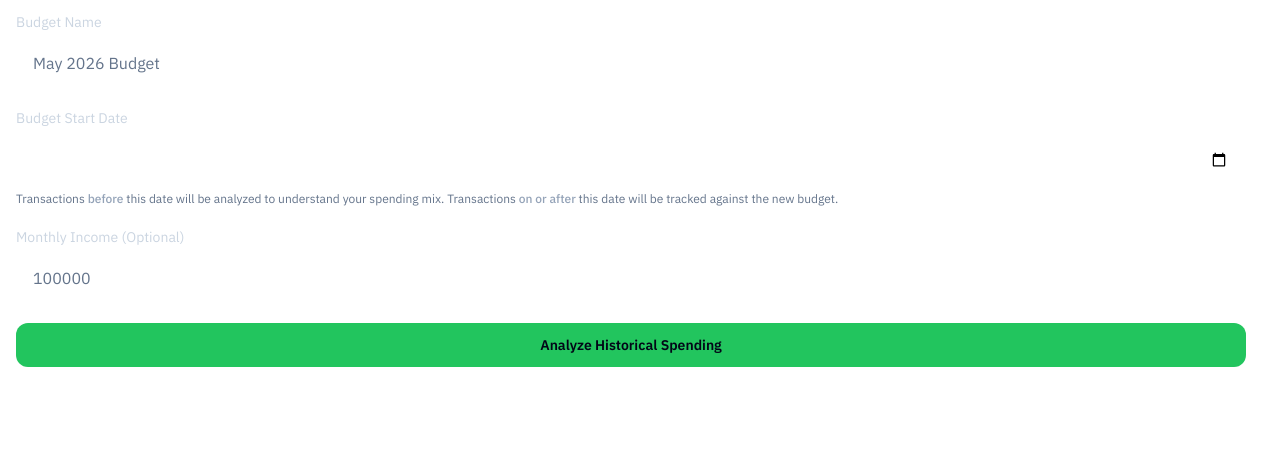
Test: BudgetCreateForm › validates required fields
The image size is (1263, 450).
Type "ab" into the field labelled "Budget Name" at (631, 64), box 16,40 -> 1246,88
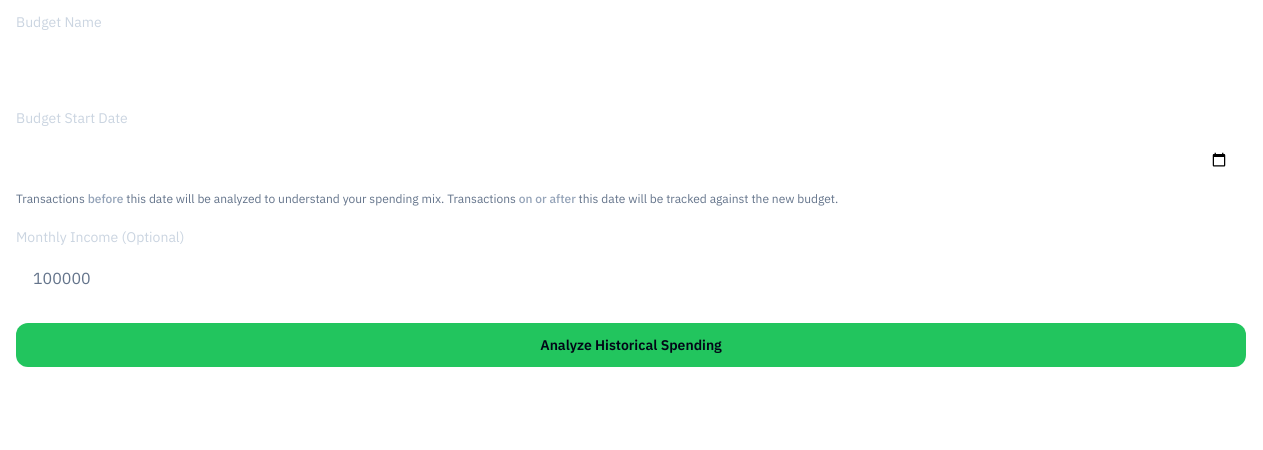
Click the button "Analyze Historical Spending" at (631, 345), box 16,323 -> 1246,367
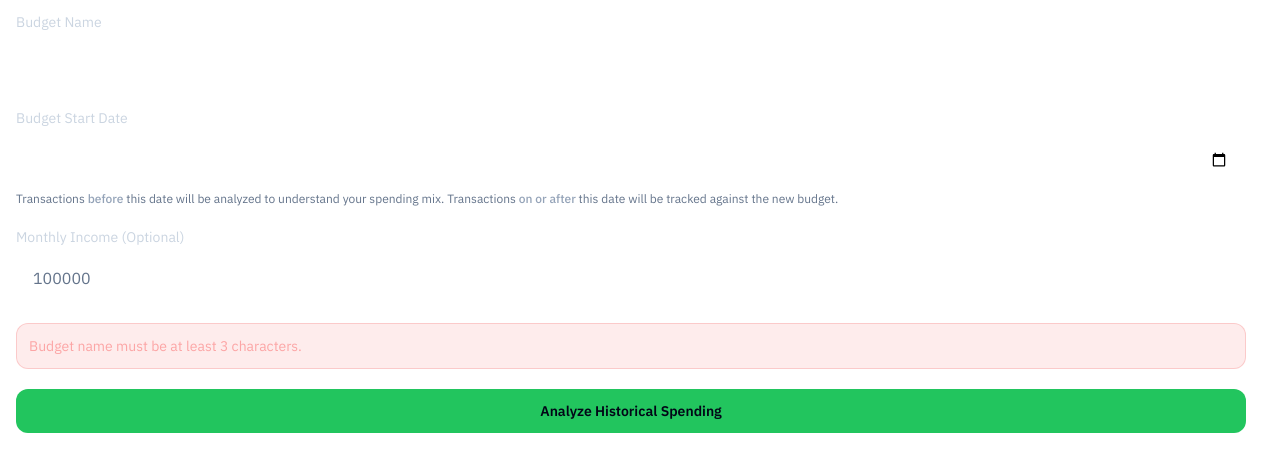
expect the text "Budget name must be at least 3 characters." is shown: met, box 16,323 -> 1246,369
